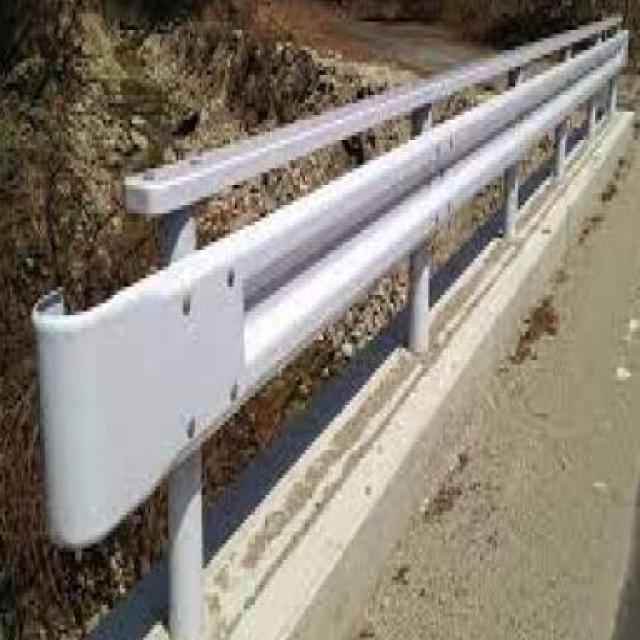Guard rail: (30, 8, 632, 640)
